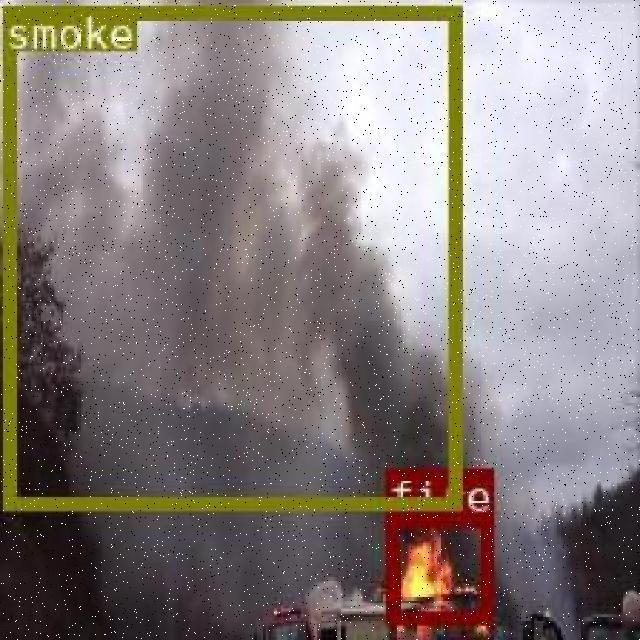Smoke: (2, 4, 460, 507)
